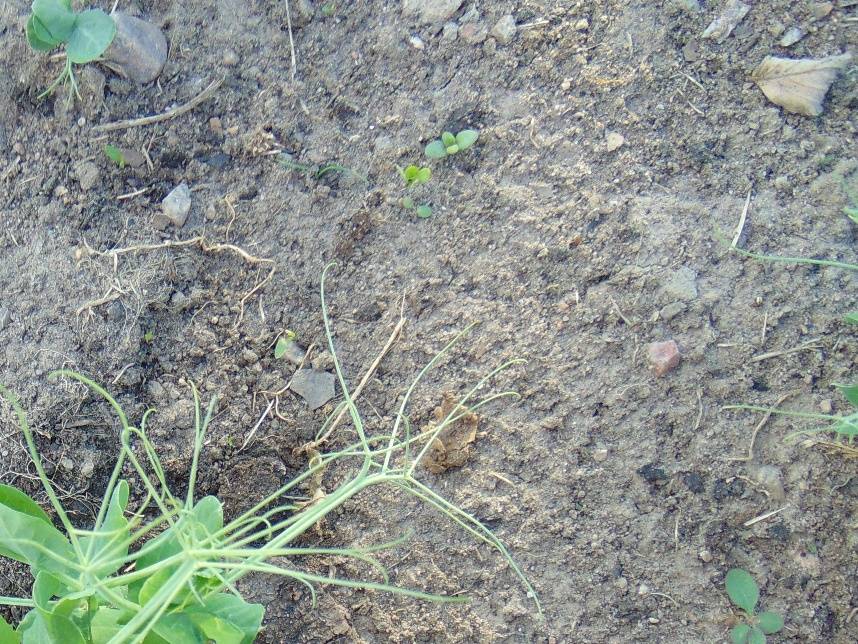crop: (1, 408, 436, 643), (25, 1, 116, 109), (822, 385, 858, 443)
weed: (723, 568, 782, 644), (395, 165, 433, 220), (422, 125, 482, 158)
